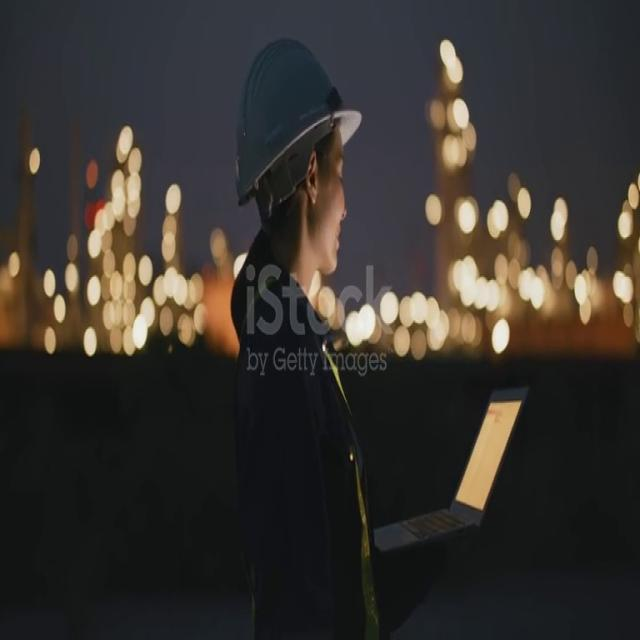capacete: (223, 21, 368, 237)
